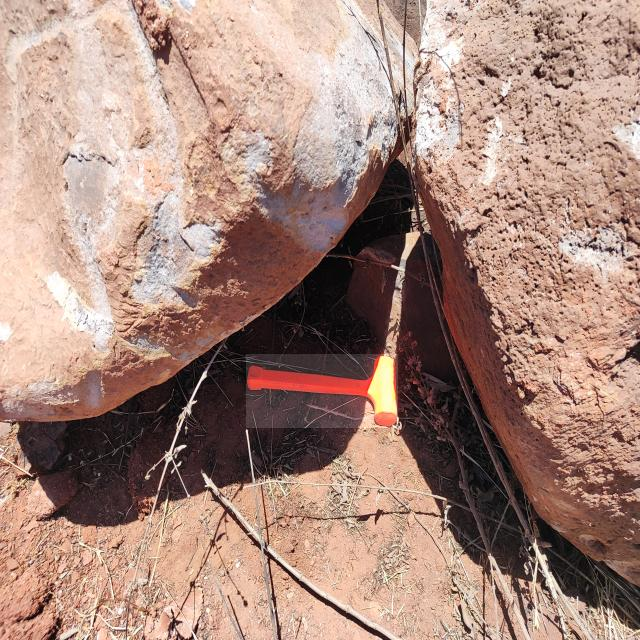Orange_hammer: (246, 354, 398, 428)
